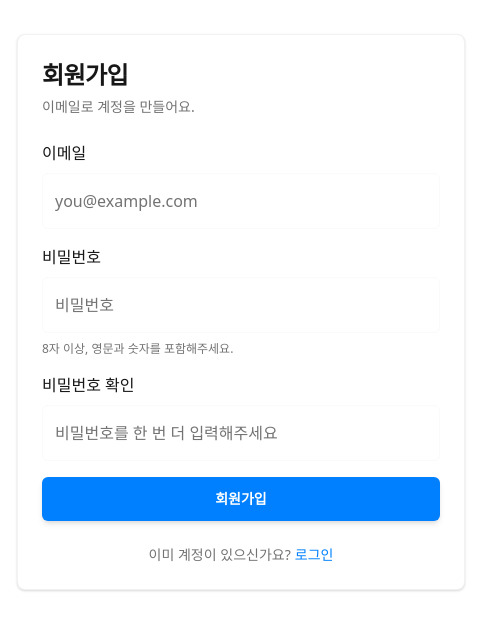
Test: SignupPage 422 already-registered branch › shows generic error for non-422 failure
Type "taken@example.com" into the field labelled "이메일" at (241, 201), box [42,173,440,229]
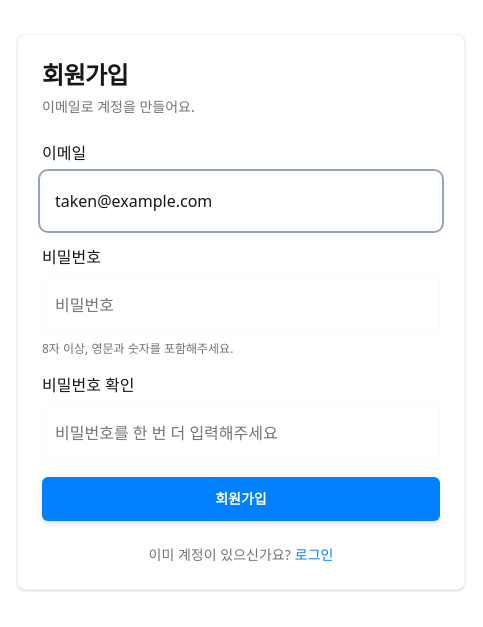
Type "StrongPass-2026!" into the password field labelled "비밀번호" at (241, 305), box [42,277,440,333]
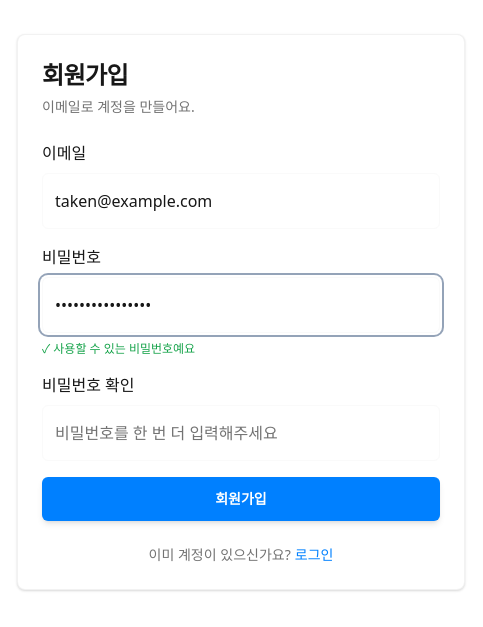
Type "StrongPass-2026!" into the password field labelled "비밀번호 확인" at (241, 433), box [42,405,440,461]
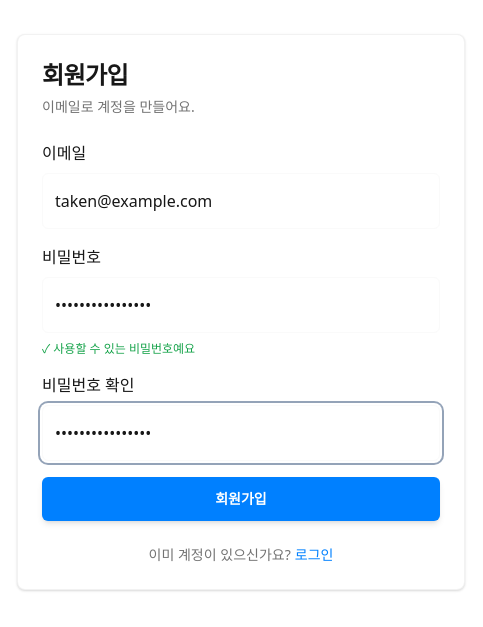
Click the button "회원가입" at (241, 499), box [42,477,440,521]
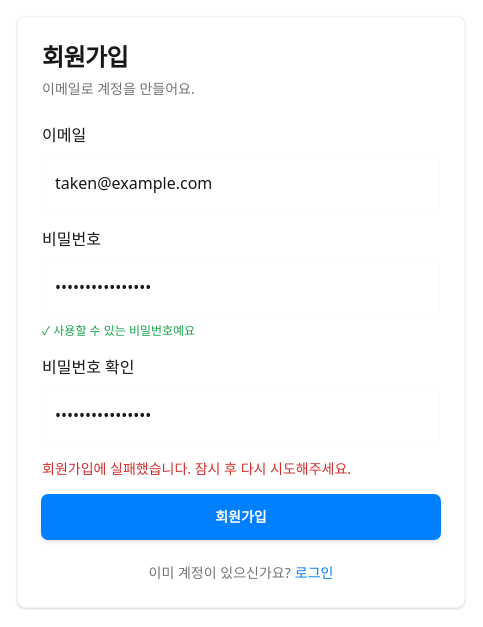
Expected: the text "회원가입에 실패했습니다. 잠시 후 다시 시도해주세요." is shown, [42,459,351,478]
